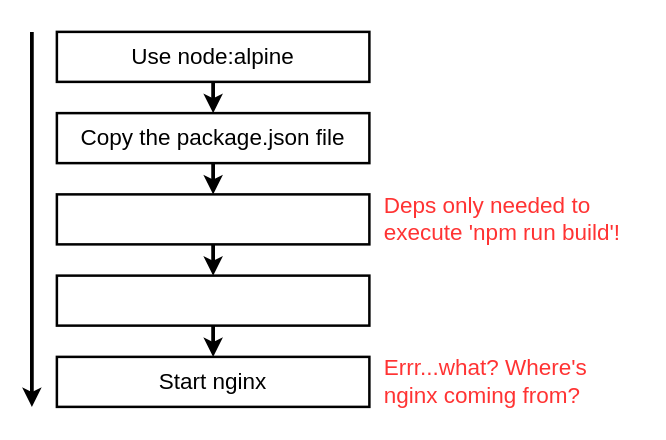
The diagram is 666 pixels wide and 440 high, and some of its shapes have lost their labels. Each missing label, with the centre of its shape:
"Install dependencies" goes at point 212,218.
"Run 'npm run build'" goes at point 212,300.
